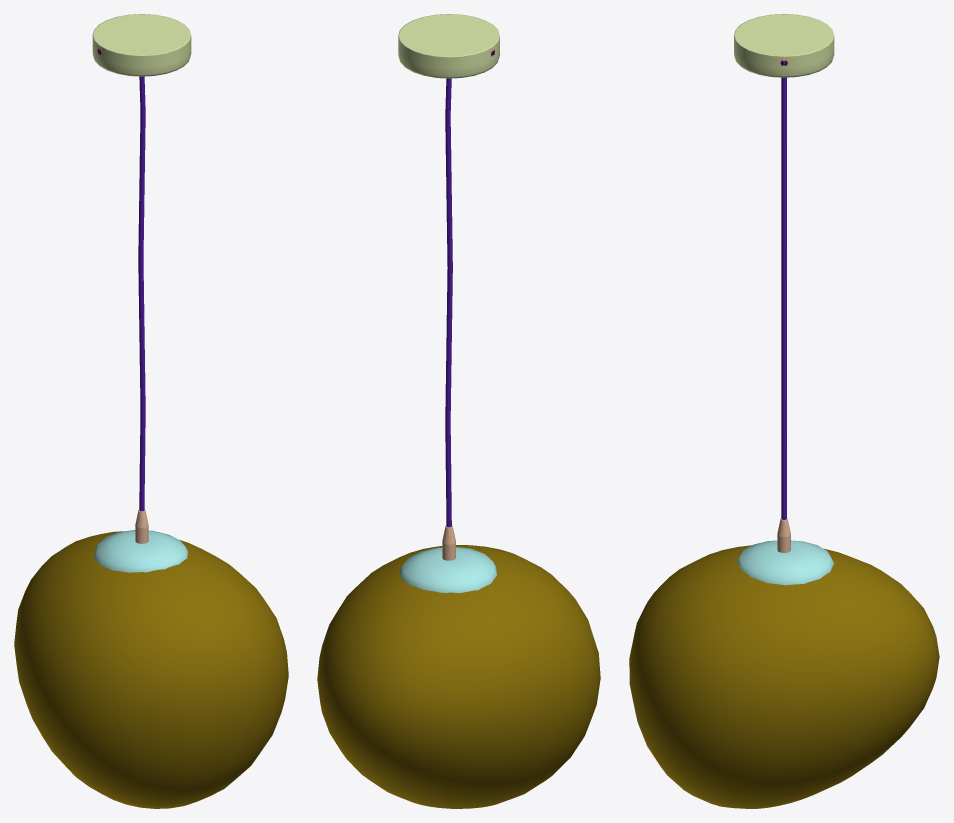
The model's file is 805016_Arnia_Lightstar.obj.
The picture shows the model from 3 angles, left to right: view 1: azimuth 30°, elevation 25°; view 2: azimuth 150°, elevation 25°; view 3: azimuth 270°, elevation 25°; orthographic projection. The views are drawn at different scales.
Parts seen in each view (by area): view 1: Sphere003, Object096, Cylinder116, Line013; view 2: Sphere003, Object096, Cylinder116, Line013; view 3: Sphere003, Object096, Cylinder116, Line013.
Part boxes in pixels (left/top/right/bottom): Sphere003: left=14, top=531, right=288, bottom=808; Object096: left=92, top=14, right=191, bottom=76; Cylinder116: left=94, top=530, right=188, bottom=572; Line013: left=138, top=76, right=145, bottom=511; Sphere003: left=317, top=545, right=600, bottom=808; Object096: left=398, top=14, right=499, bottom=78; Cylinder116: left=400, top=547, right=496, bottom=592; Line013: left=445, top=78, right=452, bottom=527; Sphere003: left=629, top=545, right=939, bottom=808; Object096: left=734, top=14, right=834, bottom=77; Cylinder116: left=737, top=540, right=833, bottom=585; Line013: left=781, top=77, right=786, bottom=519.
Size of the model in its own units: 273 by 855 by 315.
